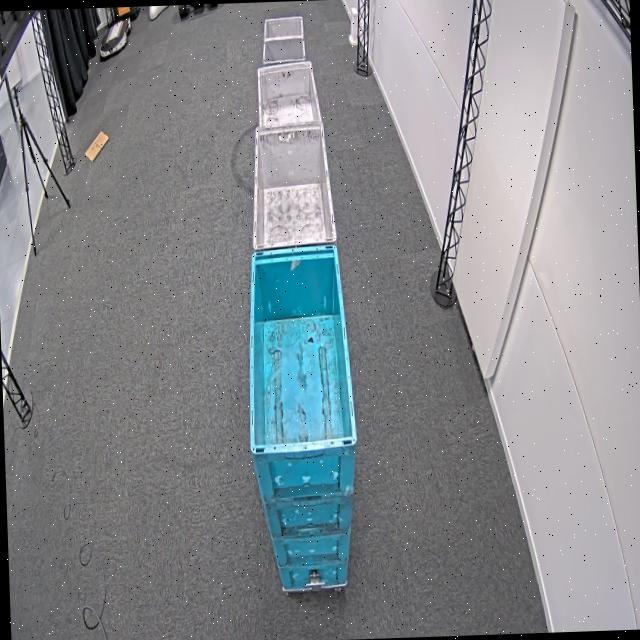Roll3G: (254, 56, 325, 134)
Roll4G: (245, 121, 339, 255)
Roll8G: (260, 10, 308, 68)
RollB4: (240, 237, 360, 458)
